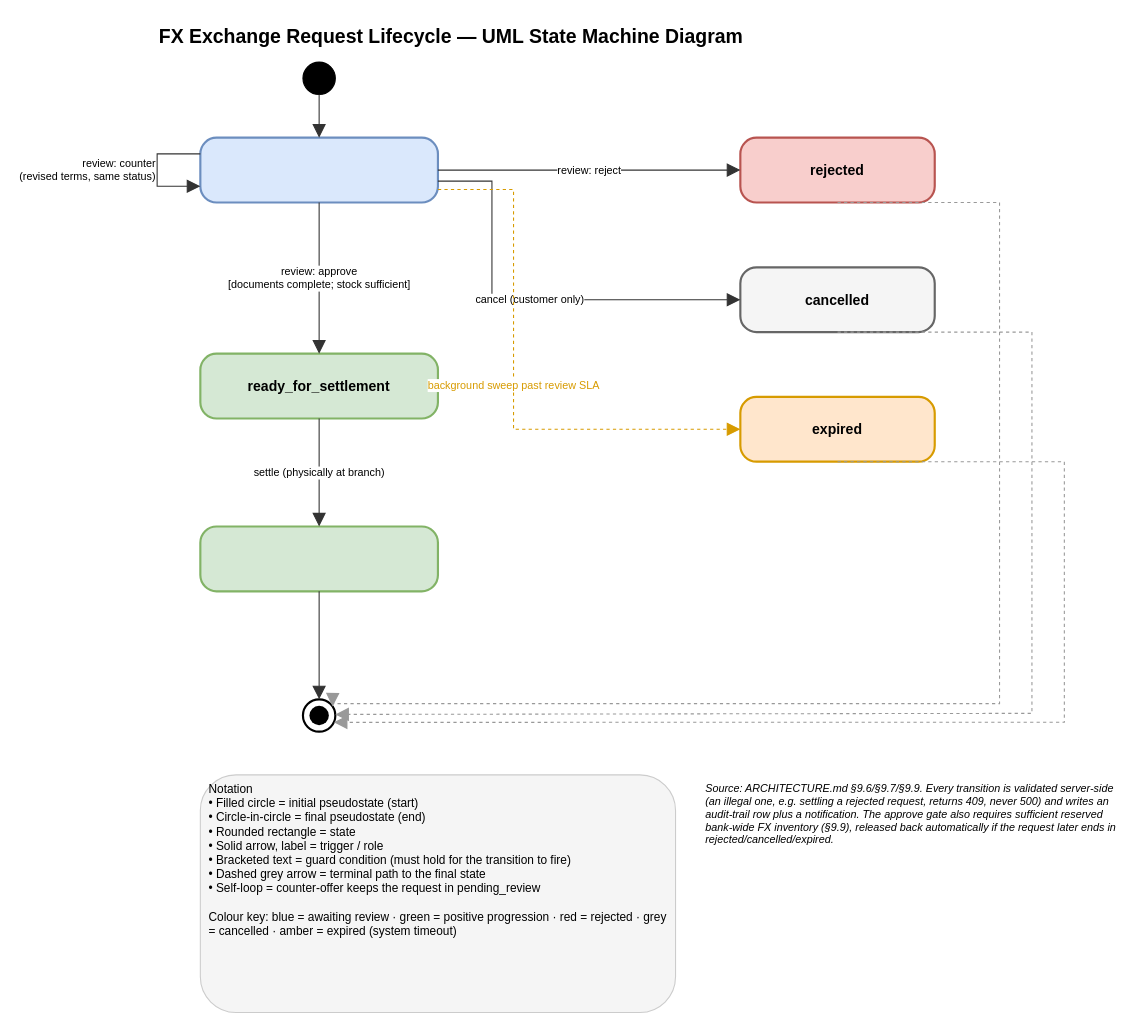
Image size: 1147x1031. Some labels were removed from this diagram. Here are the shapes that lost their labels. From the top down, the centre of each, then its label:
At [318,169]: "pending_review".
At [318,558]: "settled".
